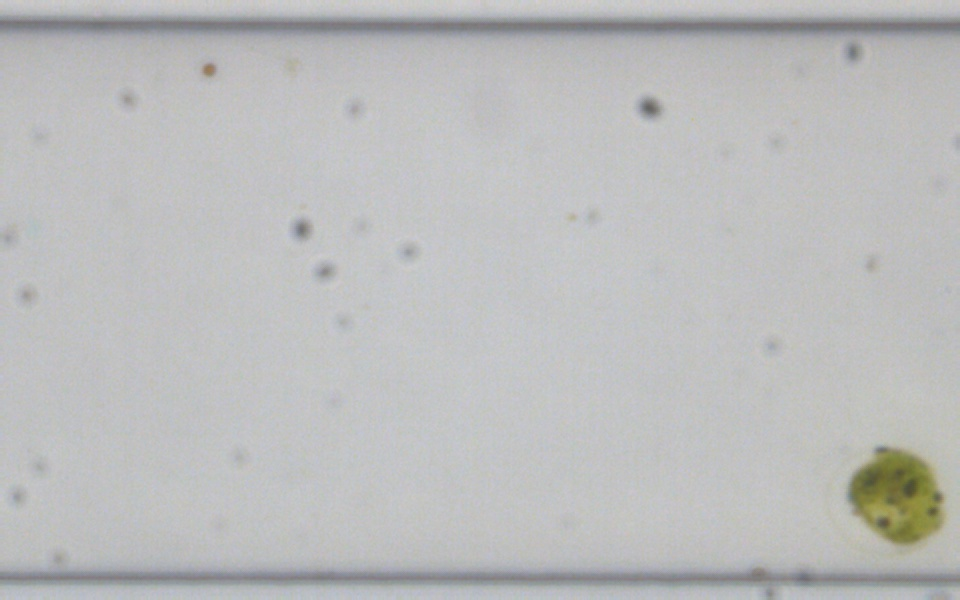Chlorella: (200, 61, 217, 77)
Haematococcus: (844, 442, 948, 550)
